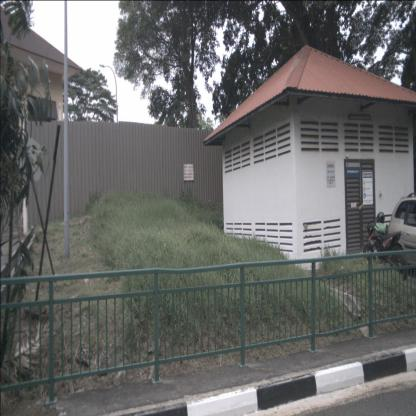vehicle-car: (386, 194, 416, 278)
vehicle-motorcycle: (362, 212, 409, 283)
